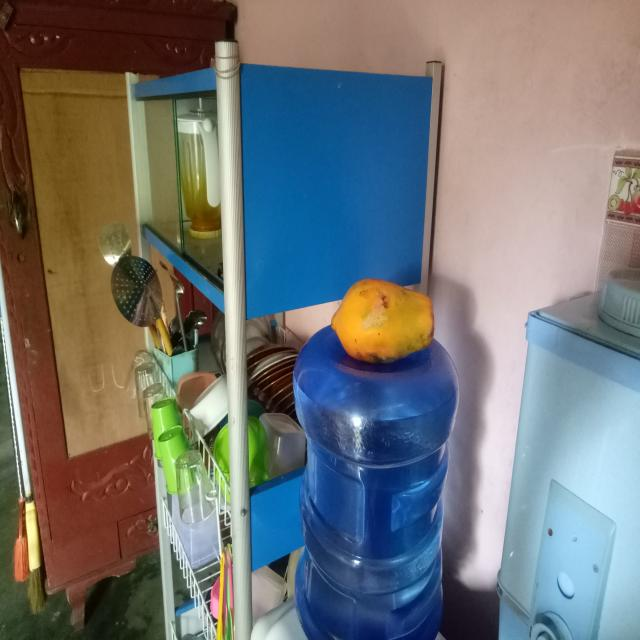Pepaya rippen: (330, 270, 441, 370)
